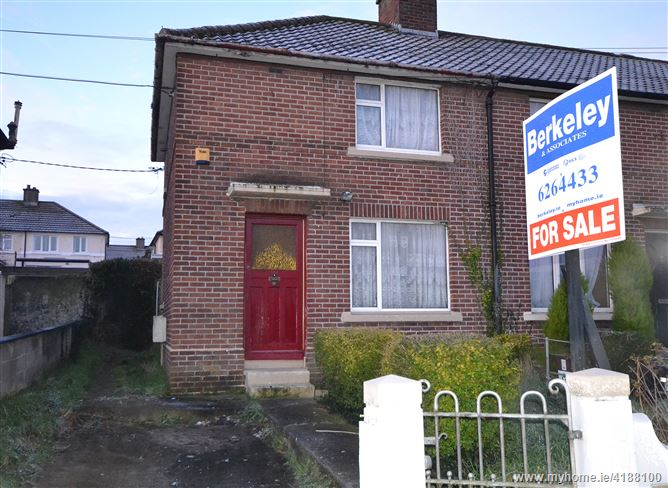property sign: (508, 61, 656, 267)
